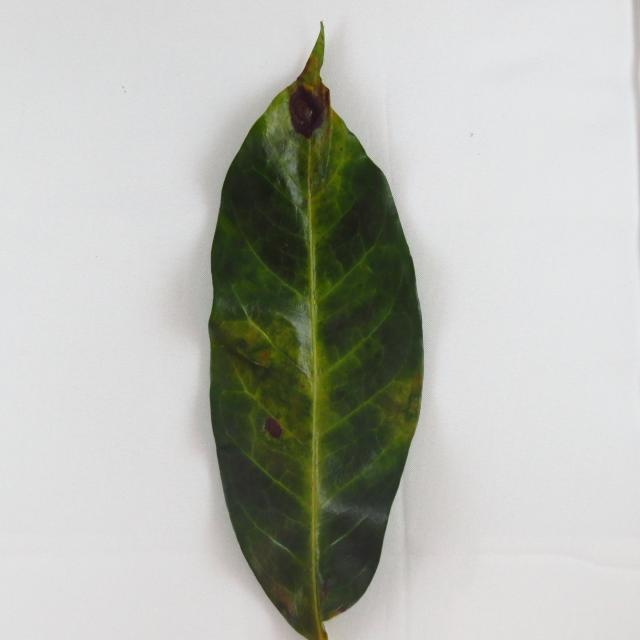DeficienciaNutricional-Magnesio: (209, 25, 422, 638)
